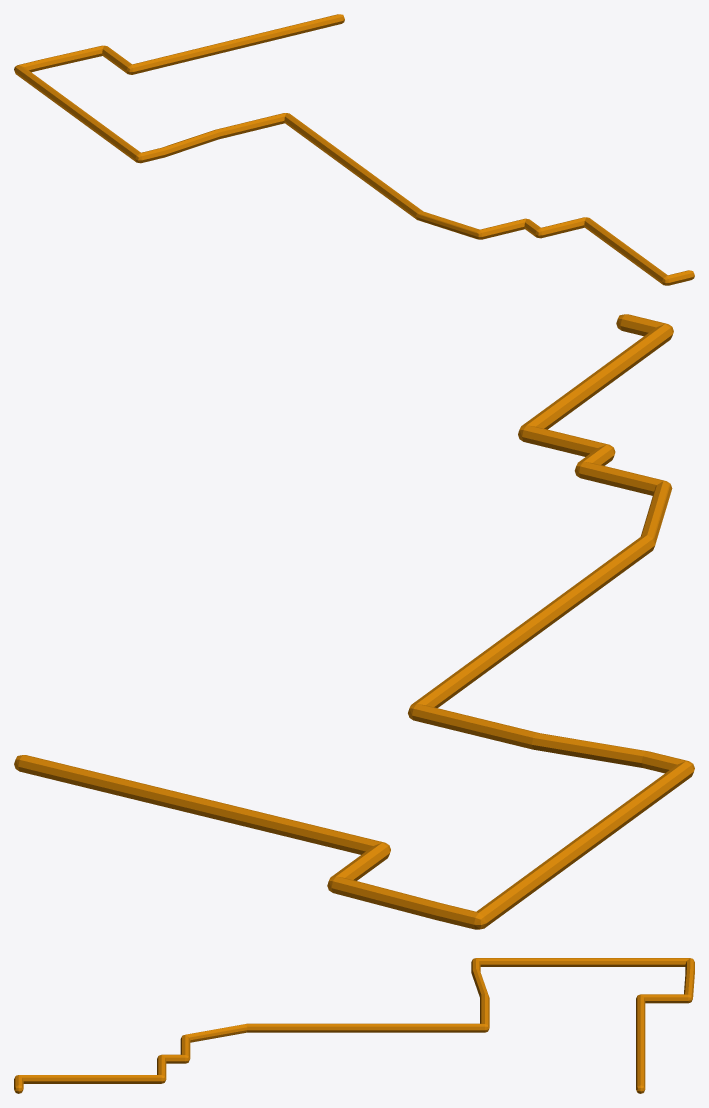
3 views of the same model, one above another, from view 1: azimuth 30°, elevation 25°; view 2: azimuth 150°, elevation 25°; view 3: azimuth 270°, elevation 25° (orthographic). The views are drawn at different scales.
Bounding box in the file's own units: 651 × 20 × 1430.
